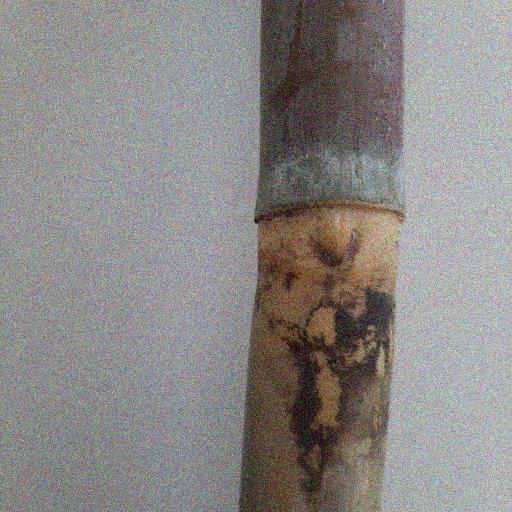Bud: (315, 215, 357, 260)
